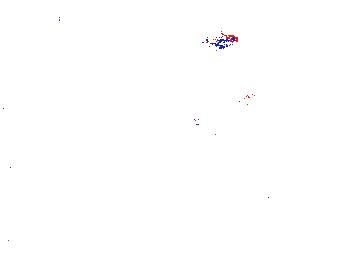X-ray fish: (187, 111, 232, 138)
red belly glassfish: (219, 91, 262, 109), (204, 32, 239, 48)
redtail glassfish: (51, 12, 115, 41)
